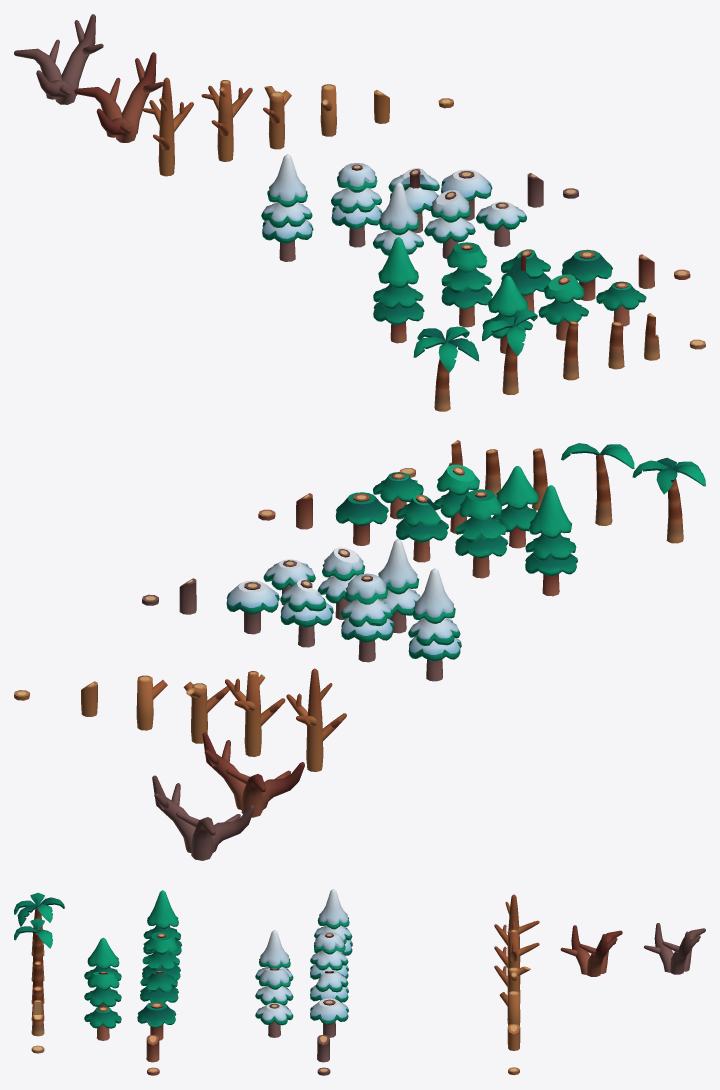
Rendered from Tree.fbx.
3 renders of one model, top to bottom at view 1: azimuth 30°, elevation 25°; view 2: azimuth 150°, elevation 25°; view 3: azimuth 270°, elevation 25°, orthographic. The views are drawn at different scales.
Visible parts, largest first — view 1: Tree_S4_A_01, Tree_H, Tree_S4_A_02, Tree_S2_A, Tree_A_1, Tree_S5_A, Tree_B, Tree_S4_B_02, Tree_S4_B_01, Tree_H_Small.001, Tree_S2_B, Tree_S2_B_1 (+12 smaller); view 2: Tree_S4_A_01, Tree_H, Tree_S4_A_02, Tree_A_1, Tree_S5_A, Tree_S2_A, Tree_S4_B_01, Tree_S4_A_03, Tree_A_2, Tree_H_Small, Tree_S2_B, Tree_B (+11 smaller); view 3: Tree_S5_A, Tree_S2_A, Tree_S4_A_02, Tree_A_1, Tree_S4_A_01, Tree_H, Tree_S4_B_02, Tree_H_Small.001, Tree_A_2, Tree_B, Tree_S4_A_04, Tree_S4_A_03 (+14 smaller).
Boxes of the visible parts, x1,y1,x2,y2 form: Tree_S4_A_01: (261,154,313,261); Tree_H: (373,237,424,343); Tree_S4_A_02: (331,163,382,247); Tree_S2_A: (74,52,163,142); Tree_A_1: (441,242,492,327); Tree_S5_A: (14,14,103,104); Tree_B: (413,326,479,411); Tree_S4_B_02: (424,190,475,258); Tree_S4_B_01: (373,182,423,255); Tree_H_Small.001: (538,274,588,340); Tree_S2_B: (142,77,193,176); Tree_S2_B_1: (201,80,252,161); Tree_S4_A_01: (408,568,461,681); Tree_H: (525,485,577,596); Tree_S4_A_02: (340,573,394,662); Tree_A_1: (455,489,508,578); Tree_S5_A: (152,775,254,860); Tree_S2_A: (202,732,304,817); Tree_S4_B_01: (378,539,420,633); Tree_S4_A_03: (280,579,333,647); Tree_A_2: (396,494,448,562); Tree_H_Small: (492,466,538,548); Tree_S2_B: (286,668,346,771); Tree_B: (632,457,705,543); Tree_S5_A: (644,923,705,974); Tree_S2_A: (560,925,622,976); Tree_S4_A_02: (310,932,348,979); Tree_A_1: (142,931,180,980); Tree_S4_A_01: (314,889,352,955); Tree_H: (143,890,181,955); Tree_S4_B_02: (255,968,293,1005); Tree_H_Small.001: (84,971,121,1007); Tree_A_2: (140,971,178,1002); Tree_B: (14,892,64,956); Tree_S4_A_04: (310,998,348,1037); Tree_S4_A_03: (310,971,348,1002).
Size of the model in its own units: 17.01 by 4.95 by 37.81.
